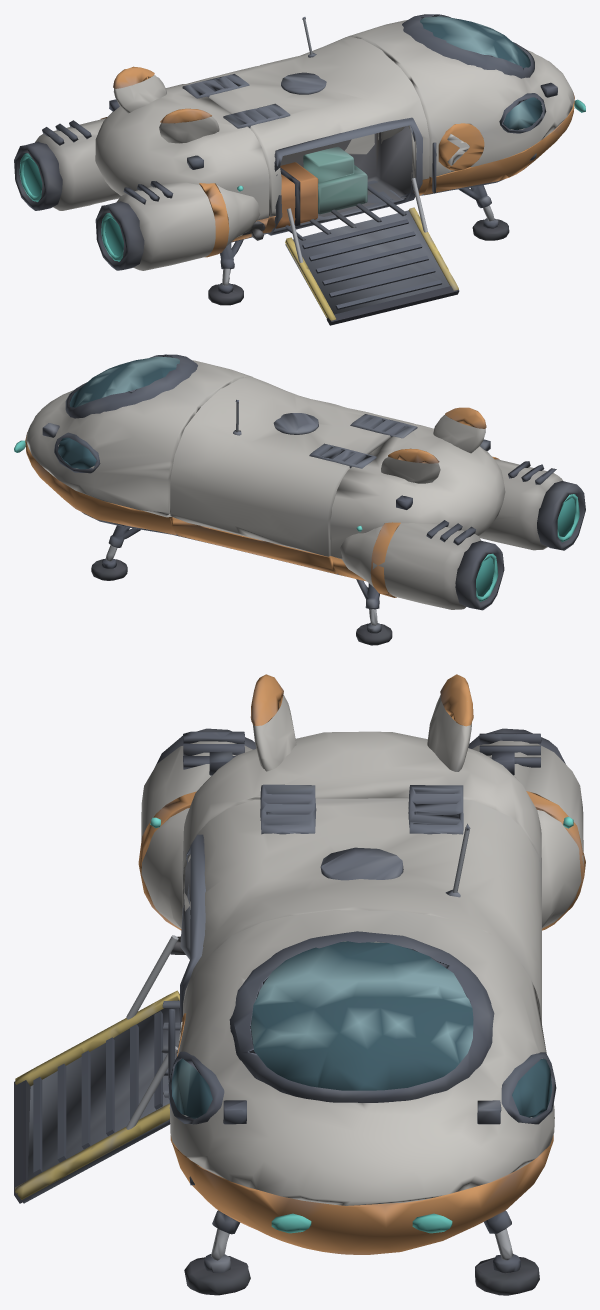
Rendered from bay_ship.glb.
3 views of the same model, one above another, from view 1: azimuth 30°, elevation 25°; view 2: azimuth 150°, elevation 25°; view 3: azimuth 270°, elevation 25° (orthographic). The views are drawn at different scales.
Visible parts, largest first — view 1: ship, ship_glass, ship_glow; view 2: ship, ship_glass, ship_glow; view 3: ship, ship_glass, ship_glow.
Part boxes in pixels (x1,y1,x2,y2): ship: (14,14,574,325); ship_glass: (420,16,542,130); ship_glow: (19,99,585,261); ship: (25,354,585,645); ship_glass: (58,356,179,469); ship_glow: (14,440,579,601); ship: (14,674,585,1295); ship_glass: (171,941,552,1118); ship_glow: (271,1213,452,1233).
Bounding box in the file's own units: 5.87 × 2.22 × 3.24.
